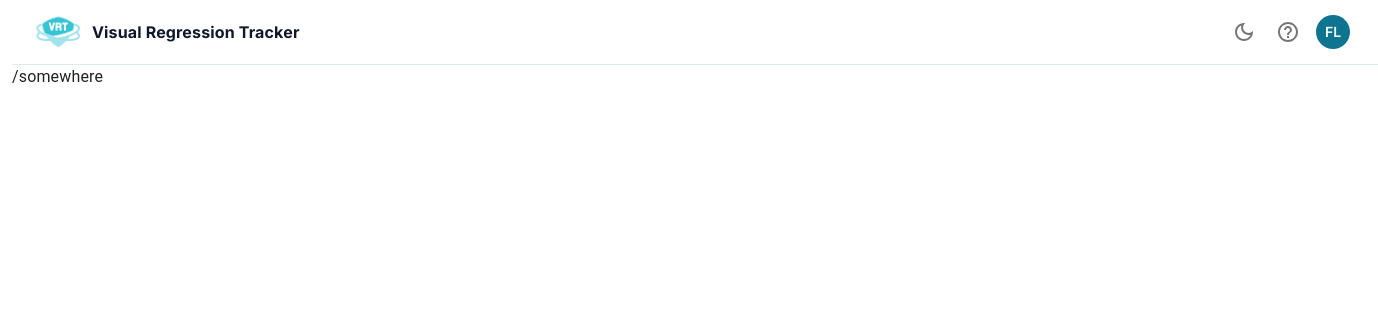
Header › logged in › keeps the avatar menu closed until the avatar is clicked
The width and height of the screenshot is (1378, 319).
Check: the menu item "Projects" is not shown
Click the button with test id "avatarMenuButton". click: (1333, 32)
box: [1312,11,1354,53]
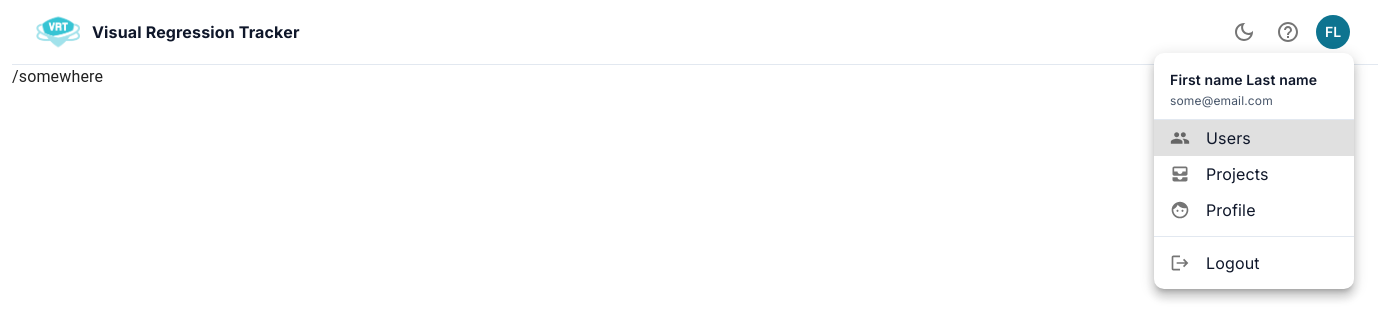
Check: the menu item "Projects" is shown, box [1170,164,1269,184]
